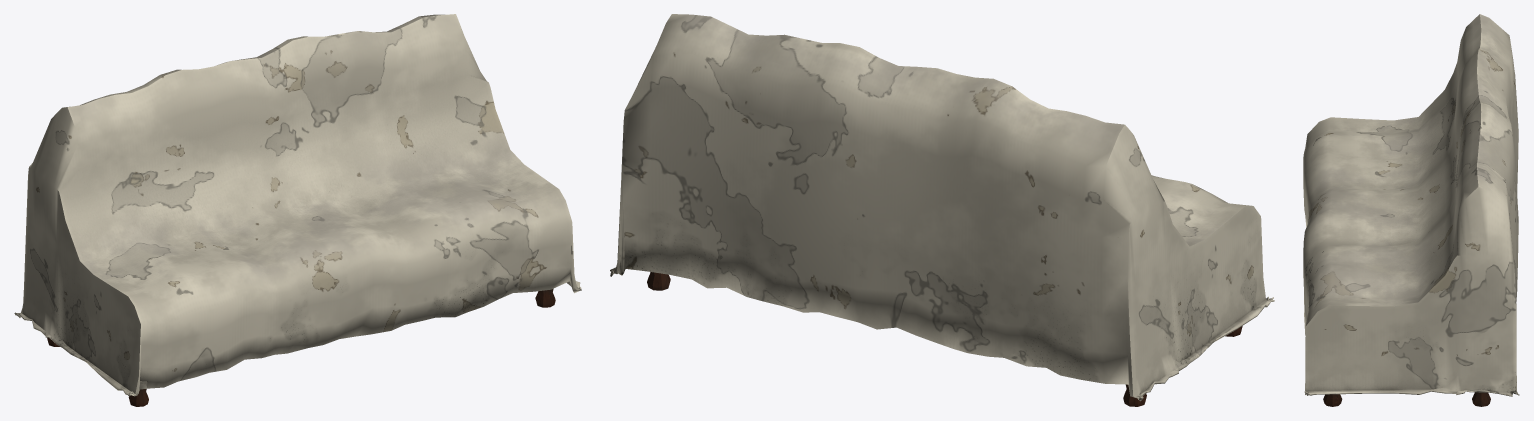
Rendered from SheetedSofa.fbx.
3 views of the same model, side by side, from view 1: azimuth 30°, elevation 25°; view 2: azimuth 150°, elevation 25°; view 3: azimuth 270°, elevation 25° (orthographic). The views are drawn at different scales.
Parts seen in each view (by area): view 1: SheetedSofa; view 2: SheetedSofa; view 3: SheetedSofa.
Boxes of the visible parts, x1,y1,x2,y2 form: SheetedSofa: (14, 14, 581, 406); SheetedSofa: (610, 14, 1274, 406); SheetedSofa: (1303, 14, 1519, 406).
Size of the model in its own units: 5.99 by 3.08 by 2.71.
Materials: 1 (1 with a texture image).
